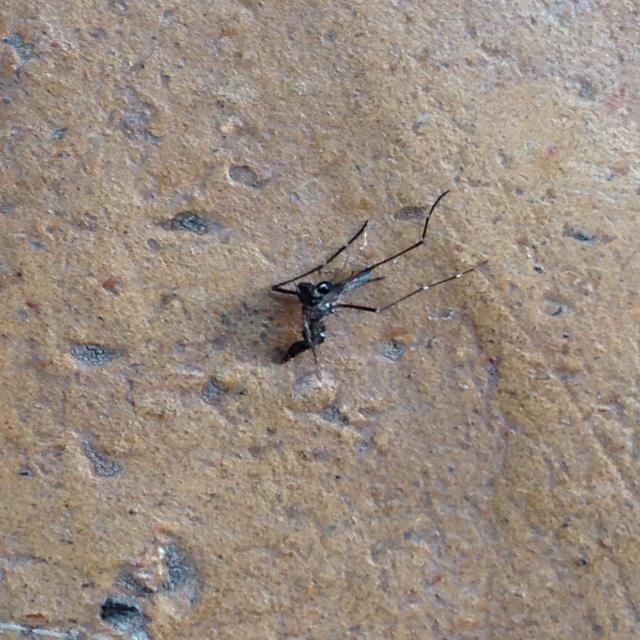albopictus: (253, 185, 489, 373)
